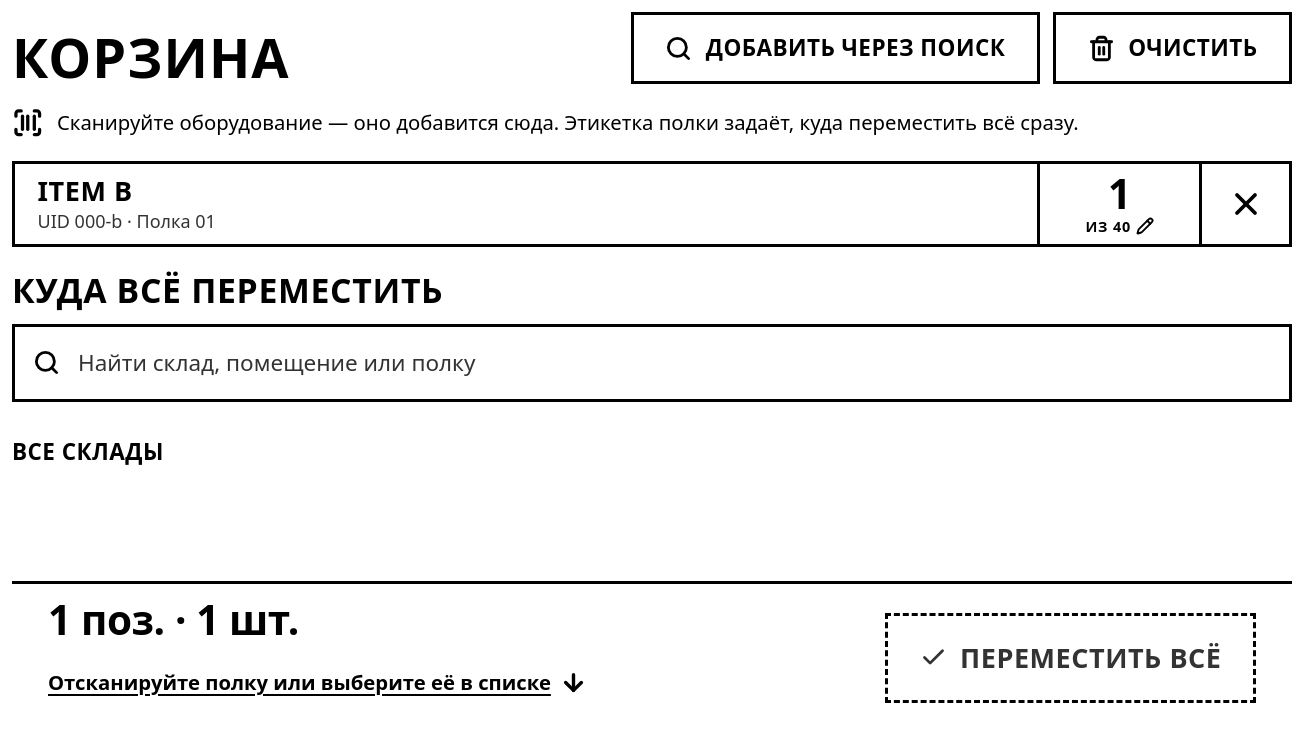
cart page › keeps every line one row: the quantity opens on its own key
Click the button "1 из 40" at (1118, 204), box top-left (1037, 164), bottom-right (1199, 244)
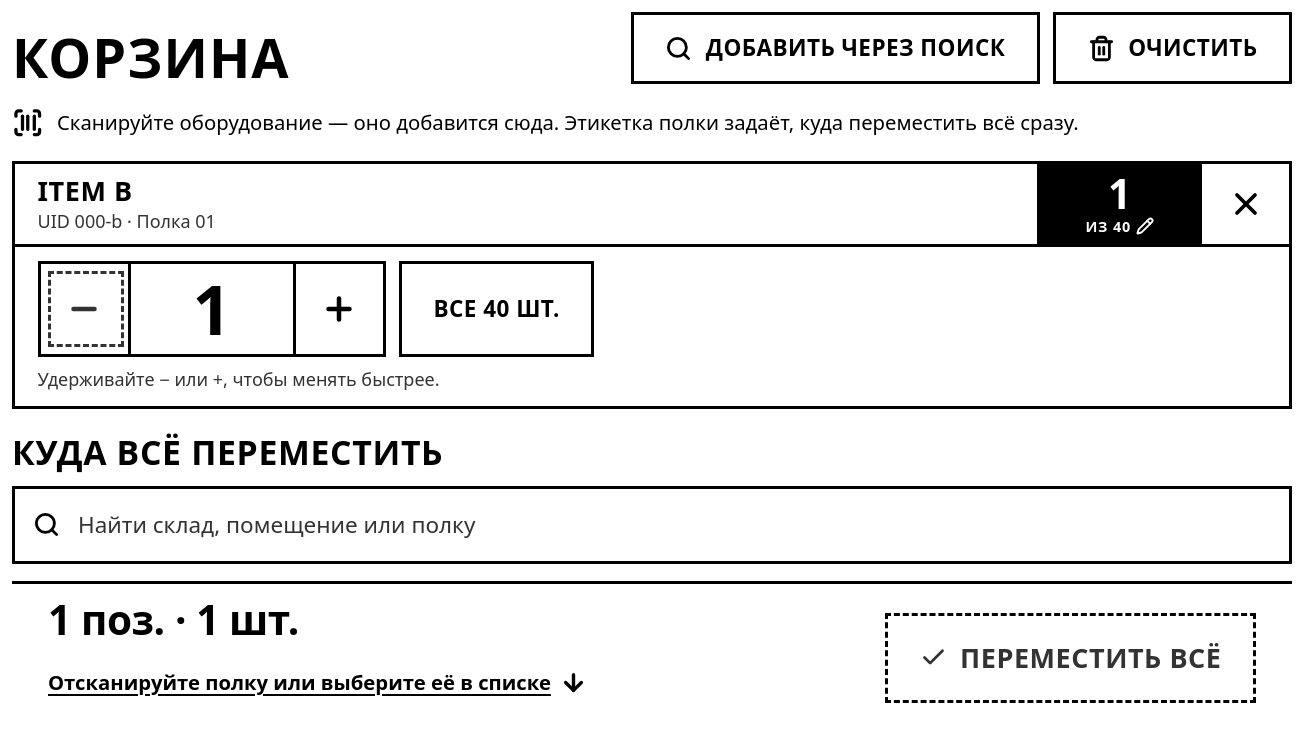
Check: the field is shown, box top-left (130, 264), bottom-right (292, 354)
